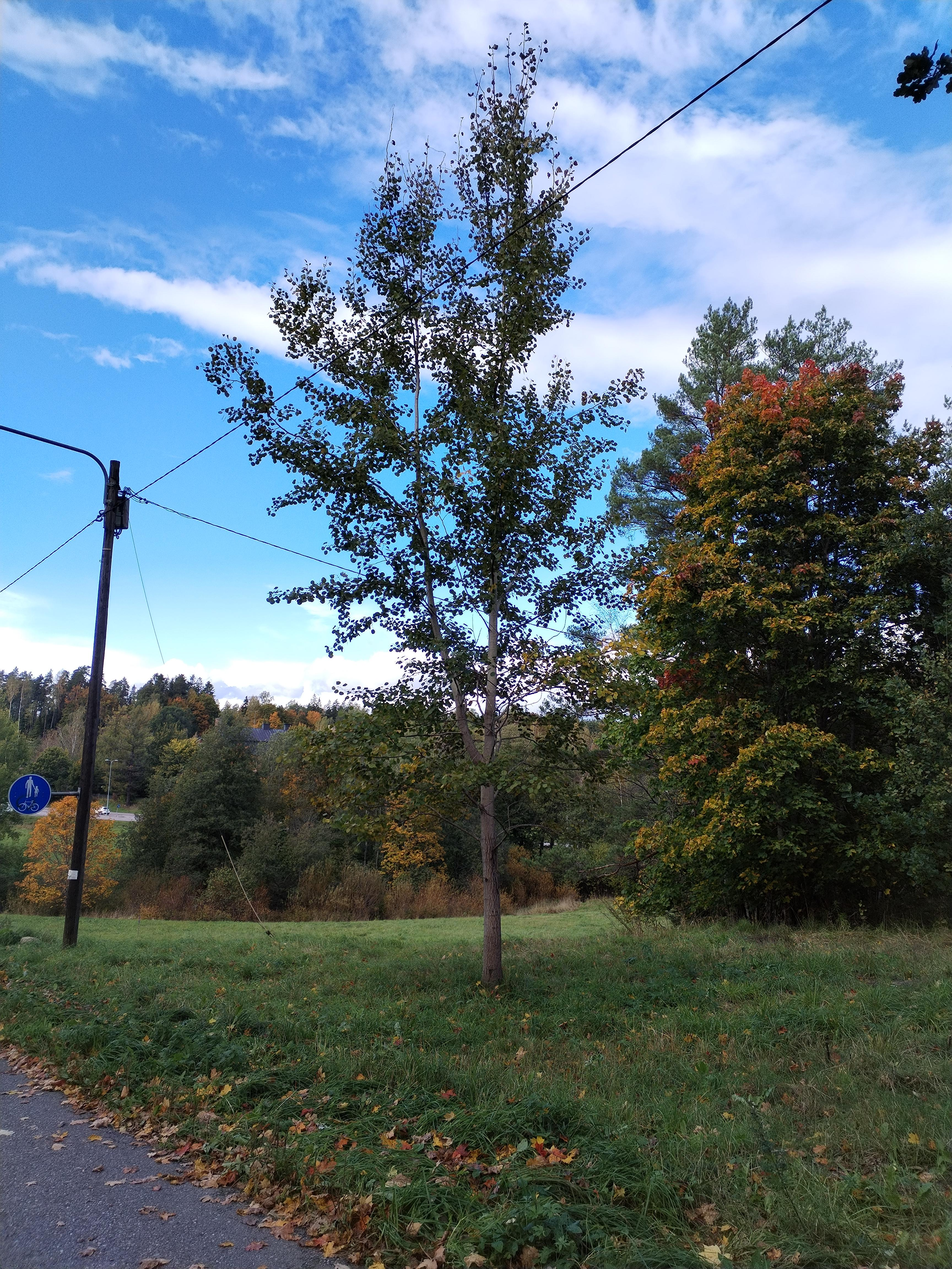Birch: (198, 18, 651, 989)
